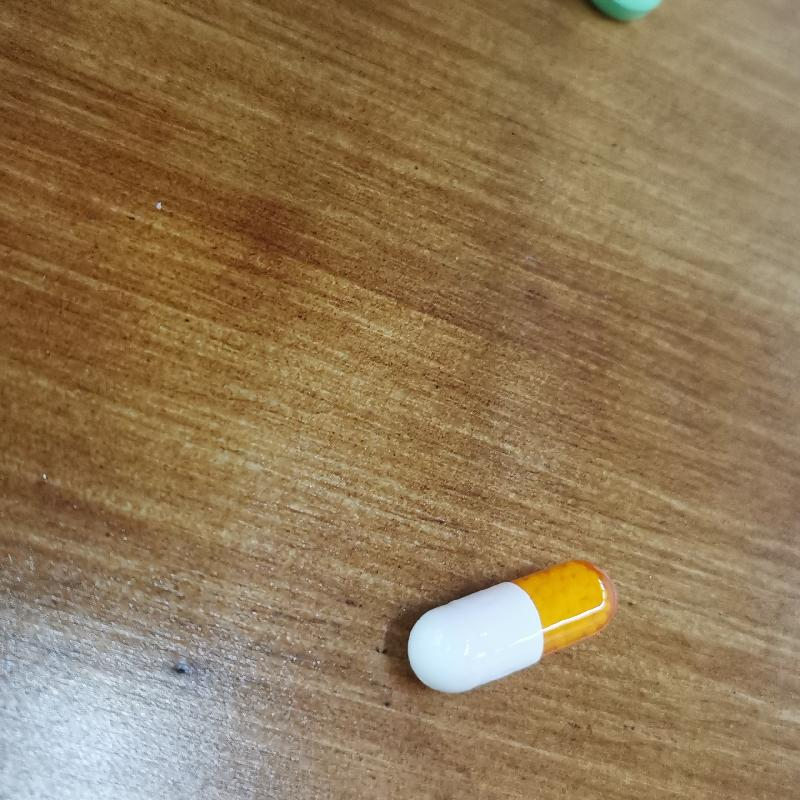pills: (397, 537, 619, 704)
